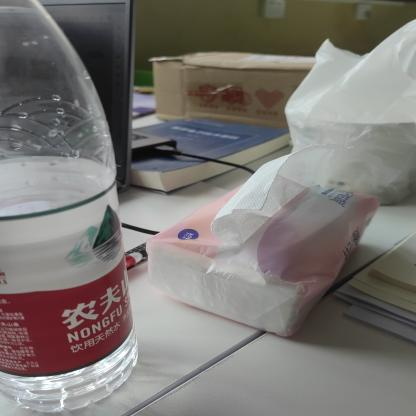Glass Bottle: (0, 0, 138, 414)
